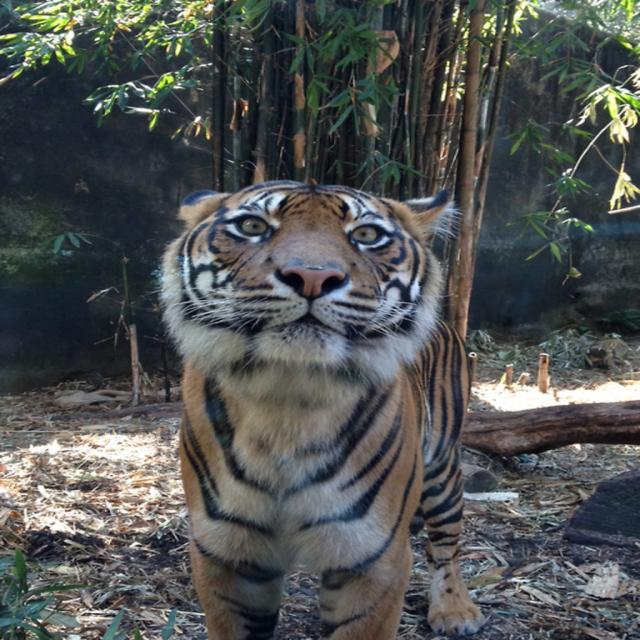Tiger: (134, 169, 487, 639)
